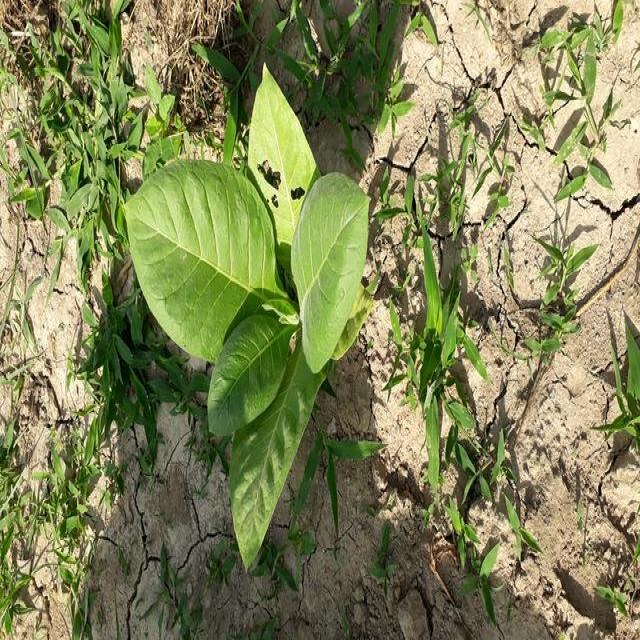crop: (118, 62, 376, 580)
